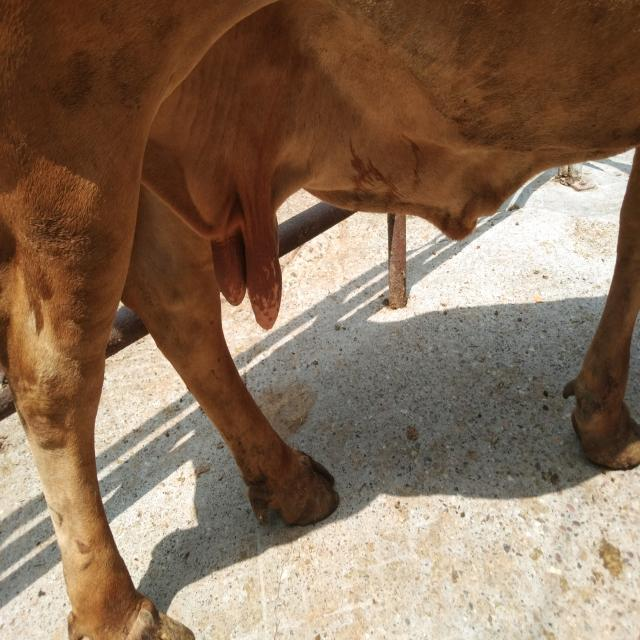Hoof: (562, 376, 639, 471), (247, 449, 339, 528), (66, 594, 195, 639)
